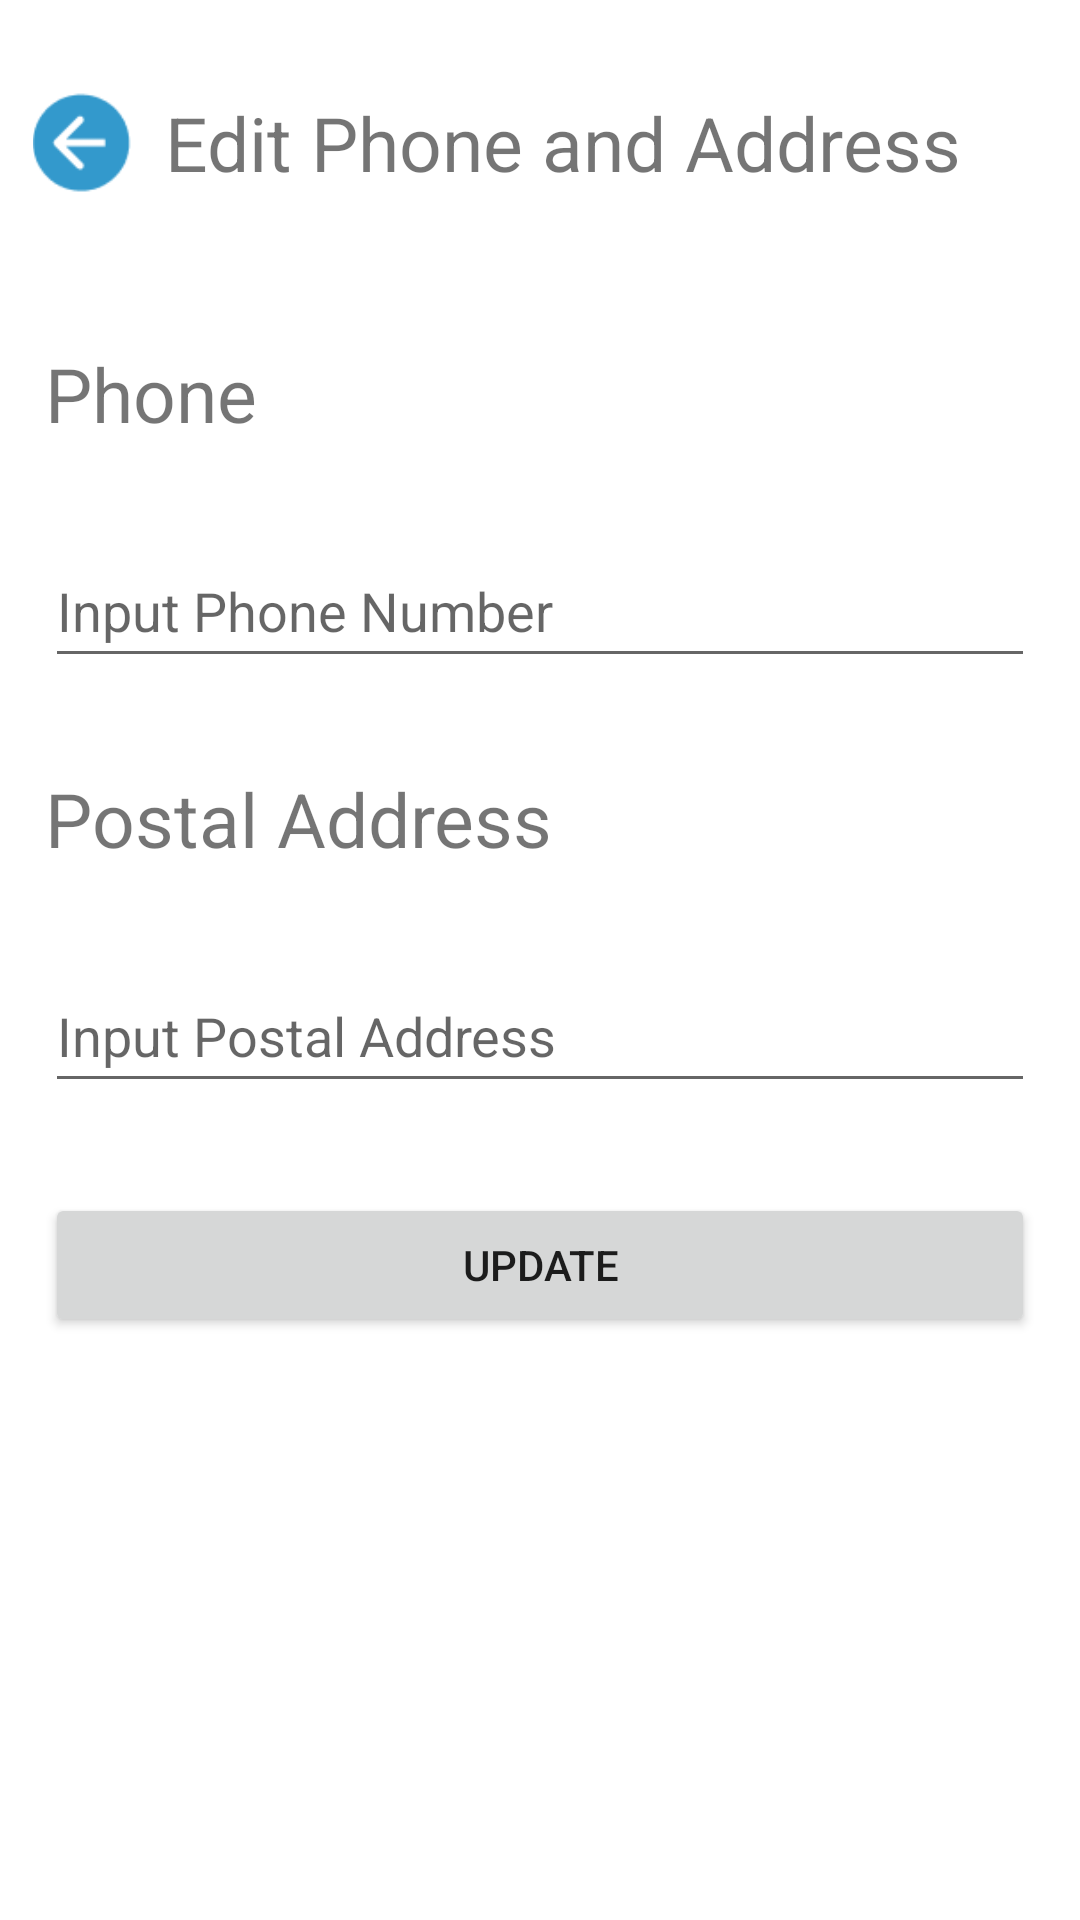

Point at icon controls on the screen. Image size 1080w x 1920h, points as [x,y].
previous: [82,142]
